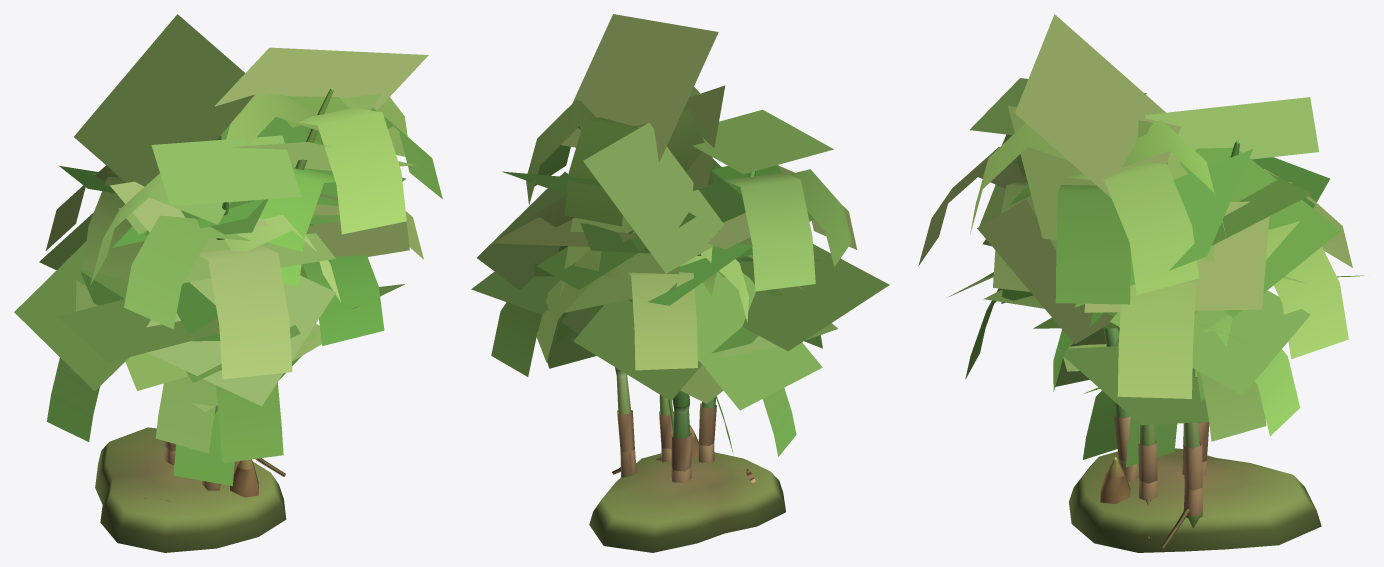
Rendered from tree-stand-young-v0.glb.
The picture shows the model from 3 angles, left to right: view 1: azimuth 30°, elevation 25°; view 2: azimuth 150°, elevation 25°; view 3: azimuth 270°, elevation 25°; orthographic projection. The views are drawn at different scales.
Parts seen in each view (by area): view 1: culmLeaf, culm; view 2: culmLeaf, culm; view 3: culmLeaf, culm.
Boxes of the visible parts, x1=… form: culmLeaf: x1=14, y1=14, x2=442, y2=486; culm: x1=95, y1=87, x2=333, y2=552; culmLeaf: x1=471, y1=14, x2=889, y2=456; culm: x1=589, y1=171, x2=785, y2=552; culmLeaf: x1=918, y1=14, x2=1364, y2=467; culm: x1=1069, y1=140, x2=1321, y2=552.
Bounding box in the file's own units: 2.67 × 3.4 × 2.72.
